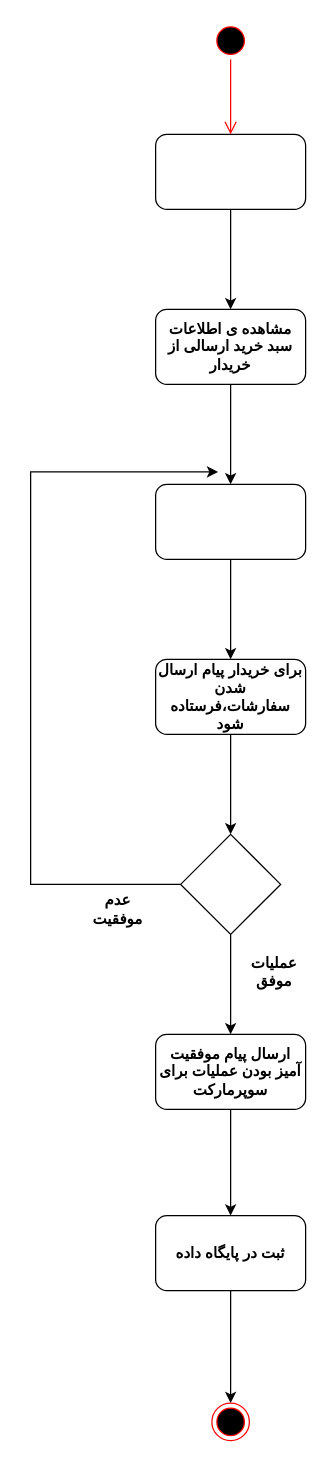
The diagram is 328 pixels wide and 1463 high, and some of its shapes have lost their labels. Here are the shapes that lost their labels. From the top down, the box of each, then its label:
(154, 133, 306, 209): انتخاب گزینه ی Order list
(154, 483, 306, 559): پس از اماده سازی،دکمه ی تایید را انتخاب کند
